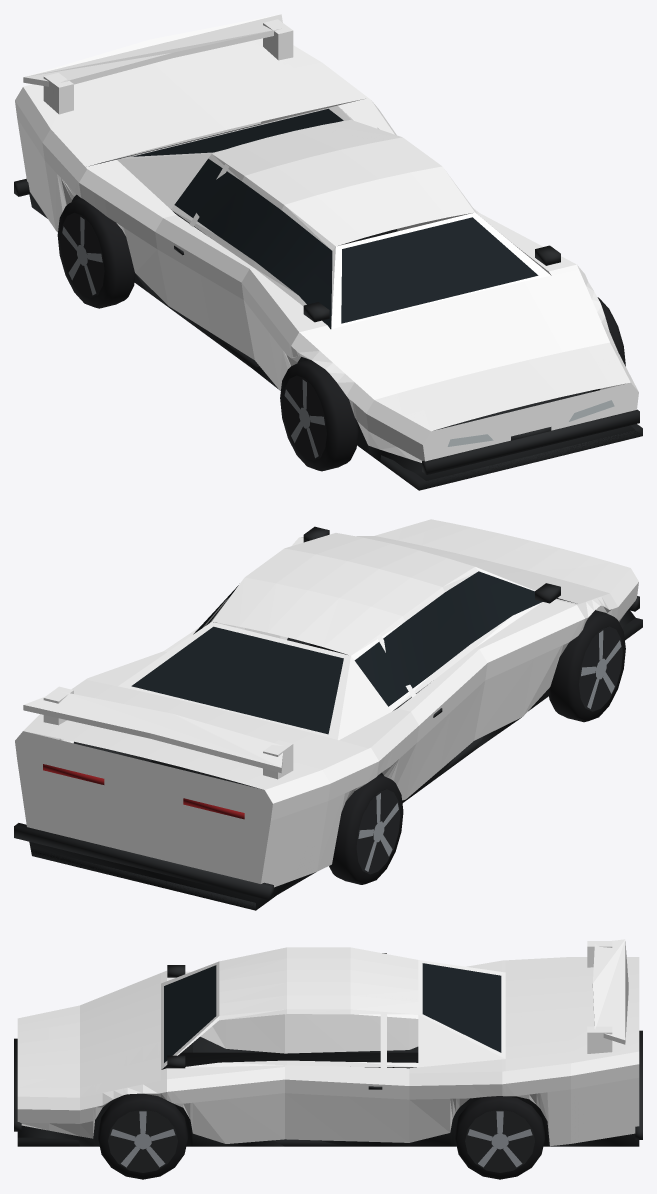
File: hozuki_catana.glb
The picture shows the model from 3 angles, top to bottom: view 1: azimuth 30°, elevation 25°; view 2: azimuth 150°, elevation 25°; view 3: azimuth 270°, elevation 25°; orthographic projection. The views are drawn at different scales.
Parts seen in each view (by area): view 1: Body_Paint, Body_Details, Mount_FrontLeft_Wheel_Details, Mount_RearLeft_Wheel_Details; view 2: Body_Paint, Body_Details, Mount_FrontLeft_Wheel_Details, Mount_RearLeft_Wheel_Details; view 3: Body_Paint, Body_Details, Mount_FrontRight_Wheel_Details, Mount_RearRight_Wheel_Details.
Part boxes in pixels (<box>): Body_Paint: <box>15,14,638,462</box>; Body_Details: <box>14,108,642,490</box>; Mount_FrontLeft_Wheel_Details: <box>280,359,358,471</box>; Mount_RearLeft_Wheel_Details: <box>57,198,135,308</box>; Body_Paint: <box>15,519,638,887</box>; Body_Details: <box>14,526,642,910</box>; Mount_FrontLeft_Wheel_Details: <box>548,610,625,722</box>; Mount_RearLeft_Wheel_Details: <box>329,774,403,884</box>; Body_Paint: <box>17,939,639,1146</box>; Body_Details: <box>14,963,642,1146</box>; Mount_FrontRight_Wheel_Details: <box>98,1093,187,1179</box>; Mount_RearRight_Wheel_Details: <box>455,1096,544,1179</box>.
Bounding box in the file's own units: 2.01 × 1.18 × 4.55.
2 materials, 1 textured.
